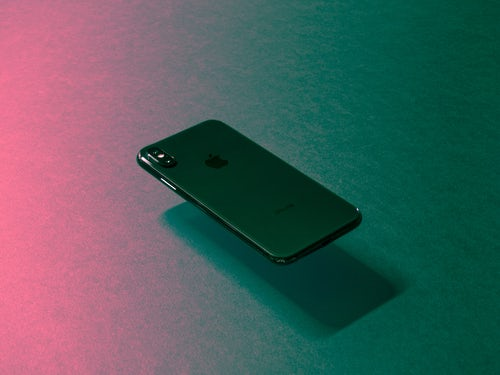phone: (136, 115, 364, 269)
